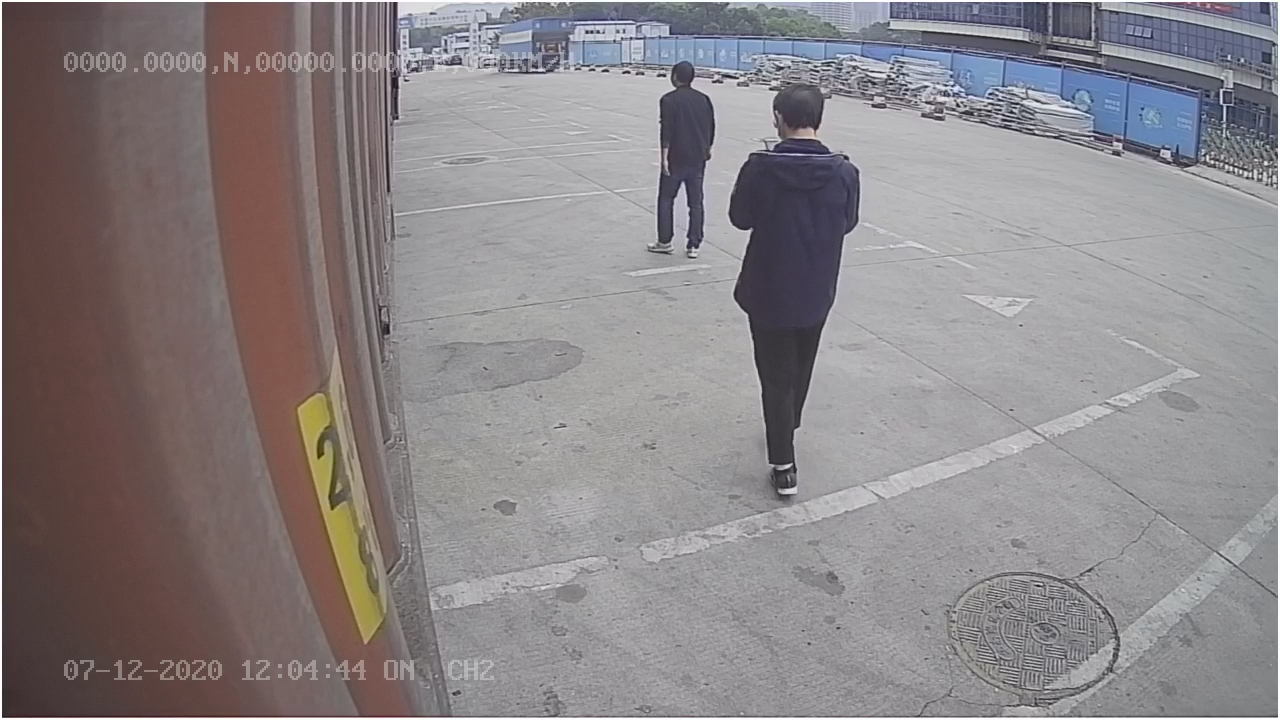person: (727, 80, 863, 497)
